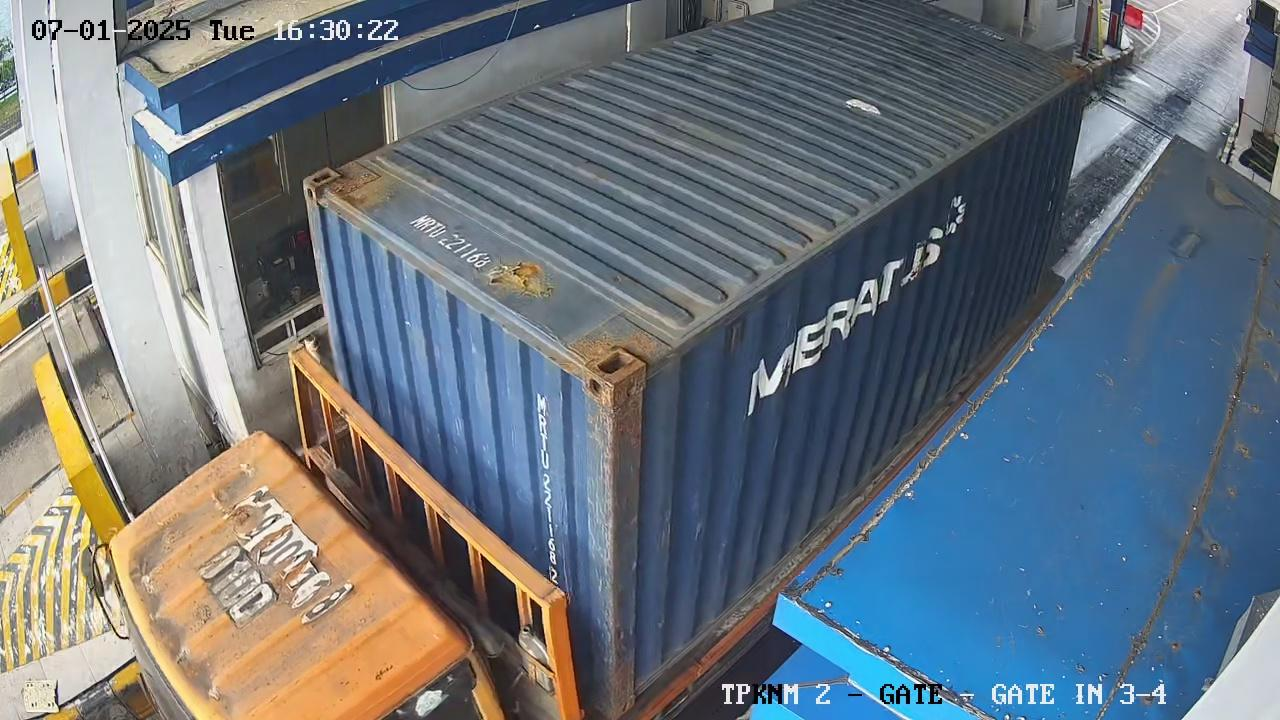Container_ID: (391, 196, 542, 295)
Container_ID_Vertikal: (525, 386, 570, 605)
